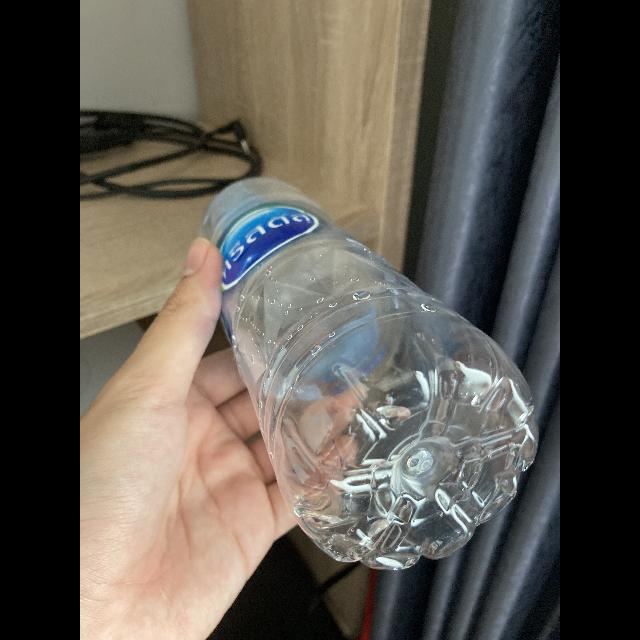plastic_bottle: (195, 173, 545, 582)
